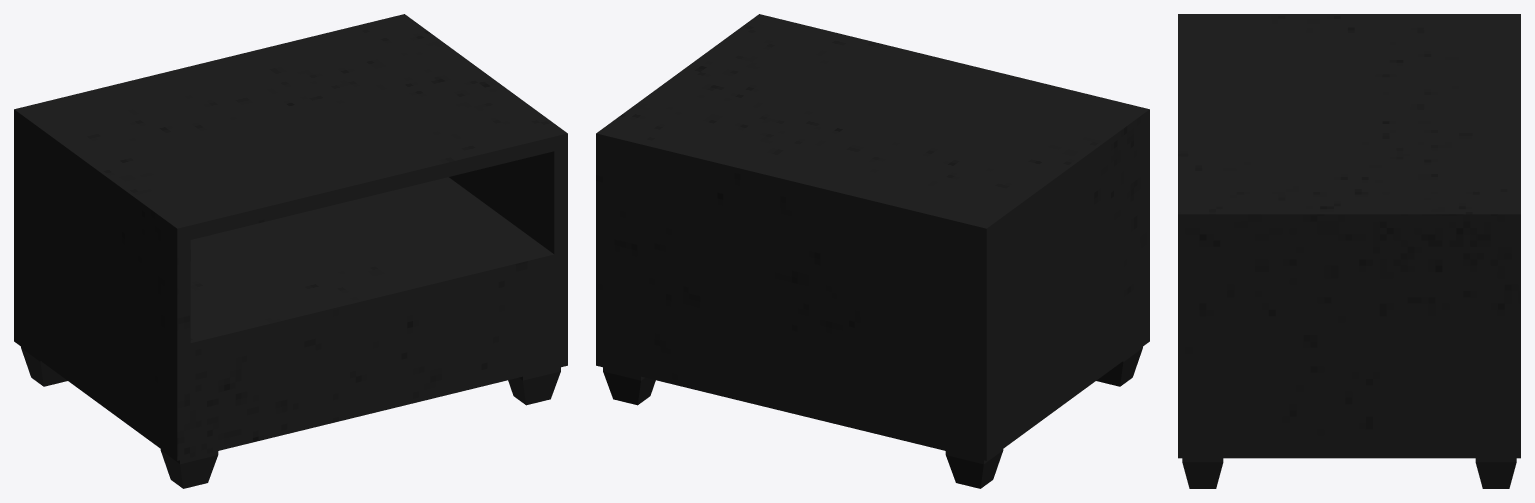
Rendered from TV_Stand.fbx.
3 views of the same model, side by side, from view 1: azimuth 30°, elevation 25°; view 2: azimuth 150°, elevation 25°; view 3: azimuth 270°, elevation 25° (orthographic). The views are drawn at different scales.
Parts seen in each view (by area): view 1: TV_Stand; view 2: TV_Stand; view 3: TV_Stand.
Boxes of the visible parts, x1,y1,x2,y2 form: TV_Stand: [14, 14, 567, 488]; TV_Stand: [596, 14, 1149, 488]; TV_Stand: [1178, 14, 1520, 488].
Size of the model in its own units: 200 by 131 by 145.
Materials: 1 (1 with a texture image).
